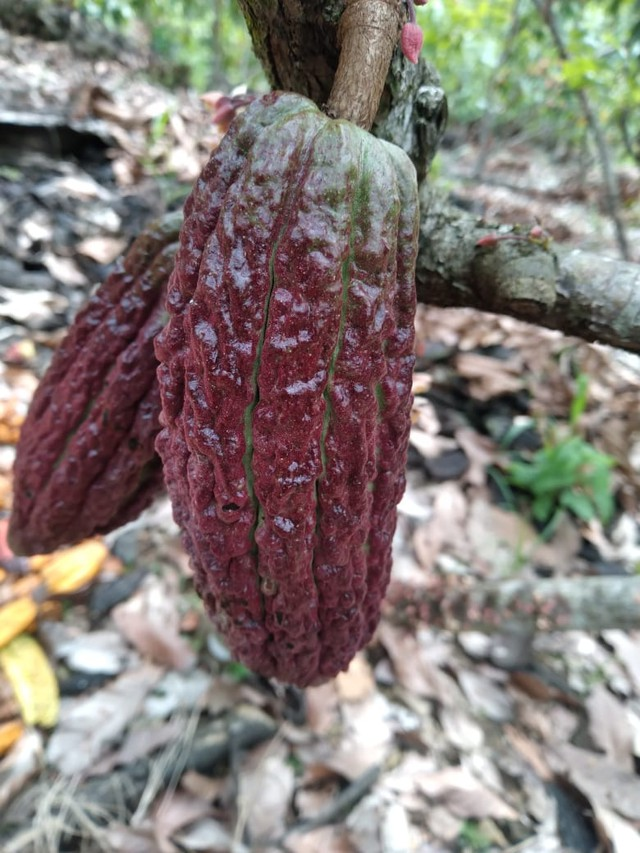Health: (143, 56, 445, 729)
